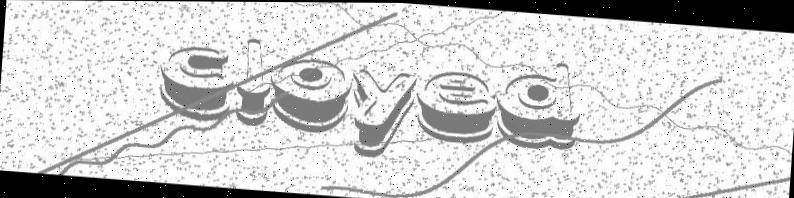c: (157, 42, 236, 124)
d: (494, 56, 585, 152)
e: (414, 68, 499, 145)
l: (233, 36, 274, 128)
o: (268, 55, 354, 136)
y: (347, 67, 417, 162)
